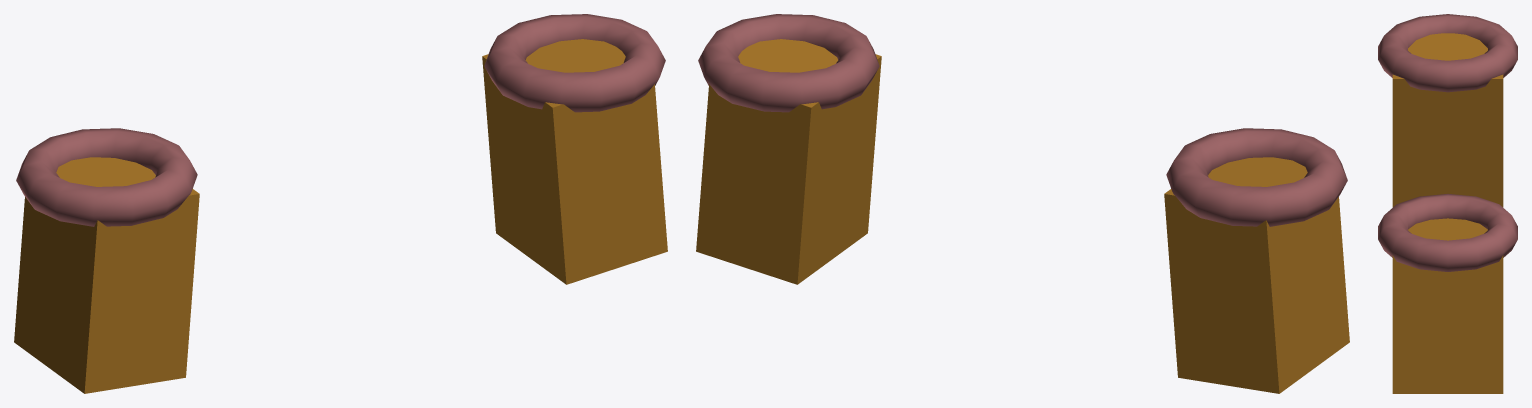
Rendered from hands.glb.
3 renders of one model, left to right at view 1: azimuth 30°, elevation 25°; view 2: azimuth 150°, elevation 25°; view 3: azimuth 270°, elevation 25°, orthographic. The views are drawn at different scales.
Visible parts, largest first — view 1: gauntlet_-1, gauntlet_1, cuff_-1, cuff_1; view 2: gauntlet_-1, gauntlet_1, cuff_-1, cuff_1; view 3: gauntlet_1, gauntlet_-1, cuff_1, cuff_-1.
Part boxes in pixels (box(x1,y1,x2,y2)): gauntlet_-1: box(14, 157, 199, 393); gauntlet_1: box(482, 39, 667, 284); cuff_-1: box(16, 128, 197, 226); cuff_1: box(484, 14, 665, 112); gauntlet_-1: box(1164, 157, 1349, 393); gauntlet_1: box(696, 39, 881, 284); cuff_-1: box(1166, 128, 1347, 226); cuff_1: box(698, 14, 879, 112); gauntlet_1: box(1392, 218, 1503, 393); gauntlet_-1: box(1392, 33, 1503, 207); cuff_1: box(1378, 193, 1517, 271); cuff_-1: box(1378, 14, 1517, 92).
Bounding box in the file's own units: 1.23 × 0.3816 × 0.3022.
